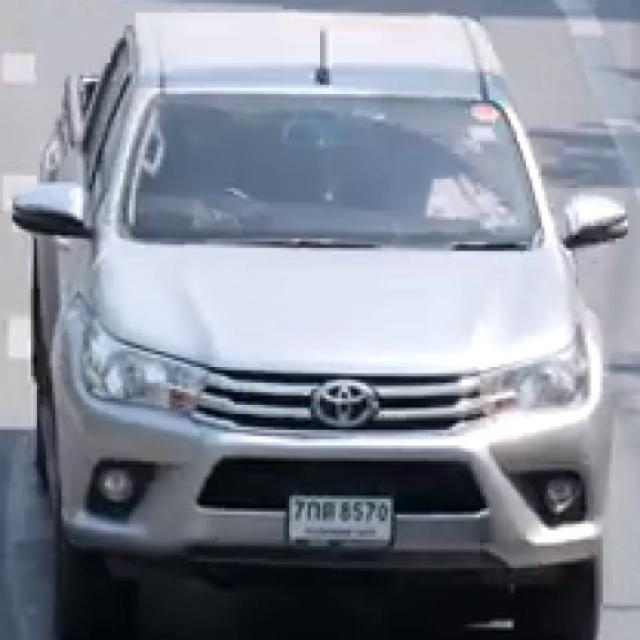plate: (289, 496, 392, 544)
